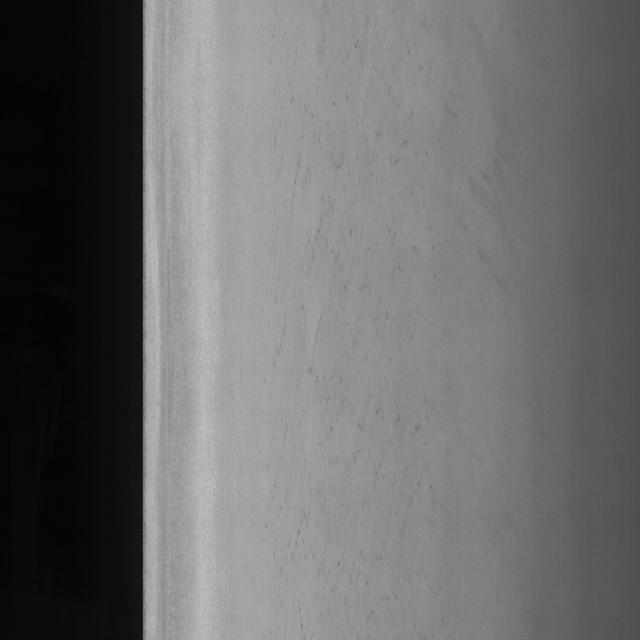inclusion: (278, 32, 419, 500)
